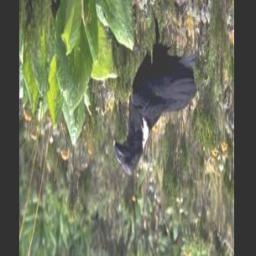Crow: (113, 11, 198, 178)
